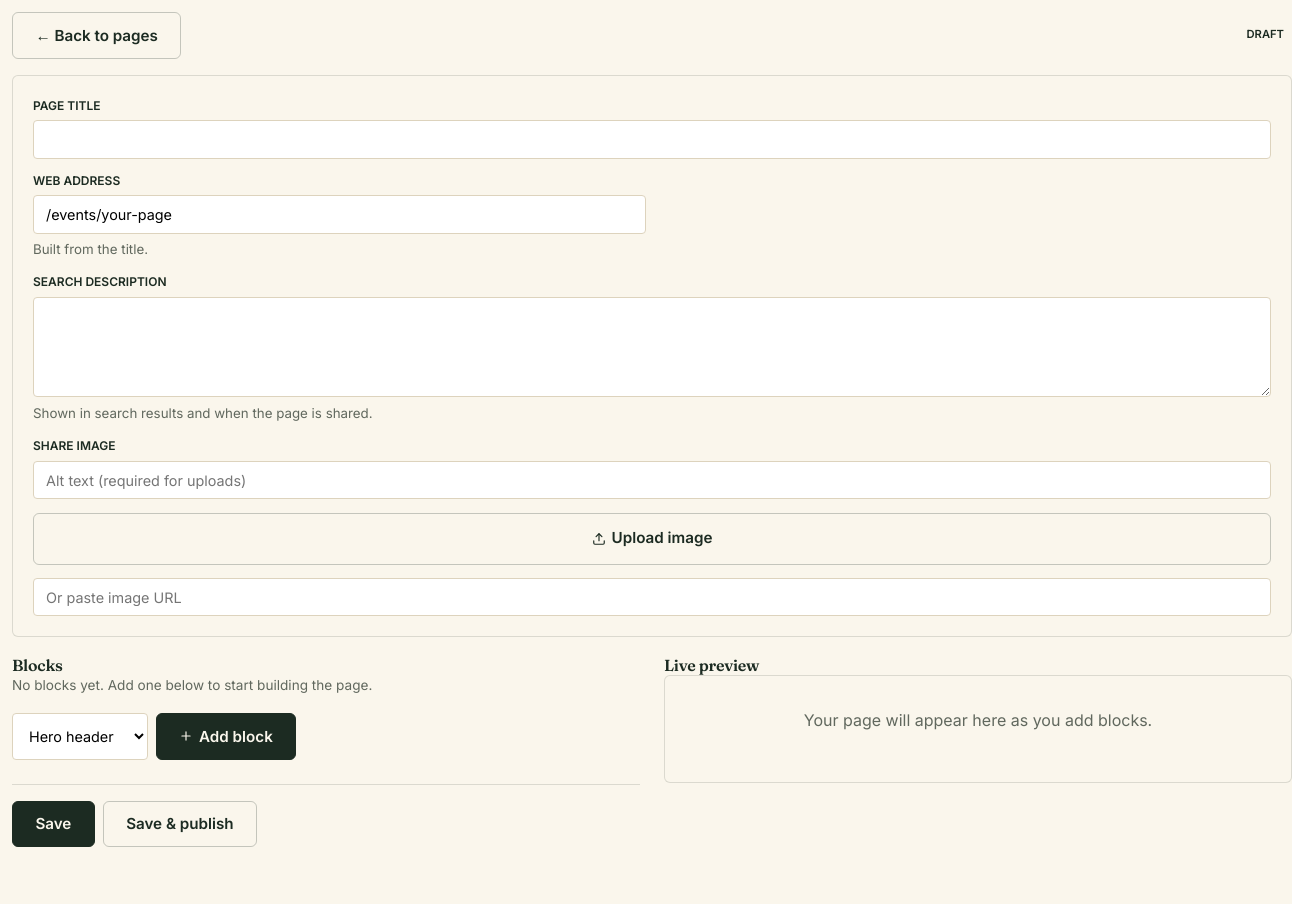
Test: PageBuilder › removes a block after confirming
Select "Pull quote" in the dropdown named "Block type". click: (80, 736)
box: [12,713,148,760]
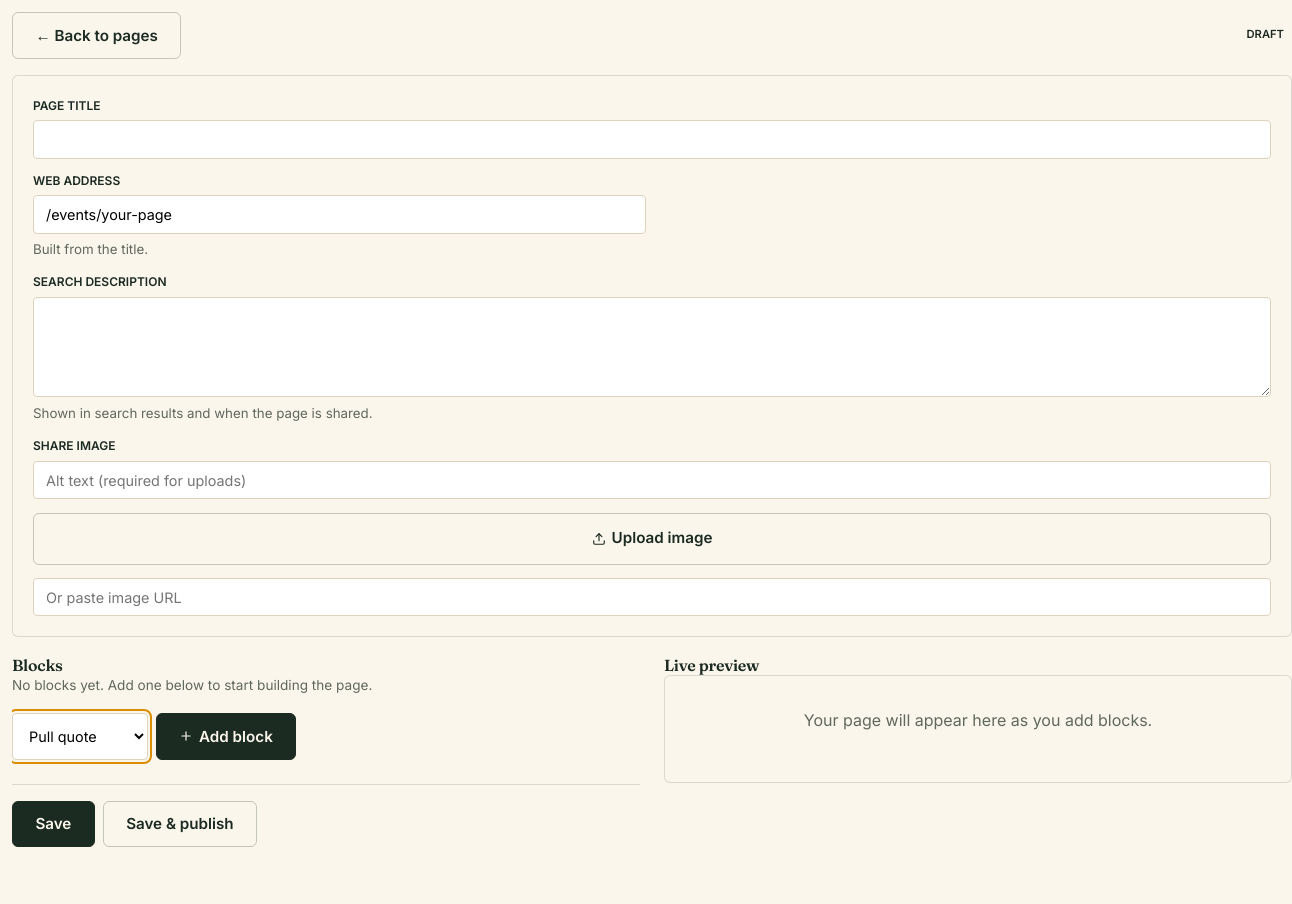
Click the button "Add block". click: (226, 736)
box: [156,713,296,760]
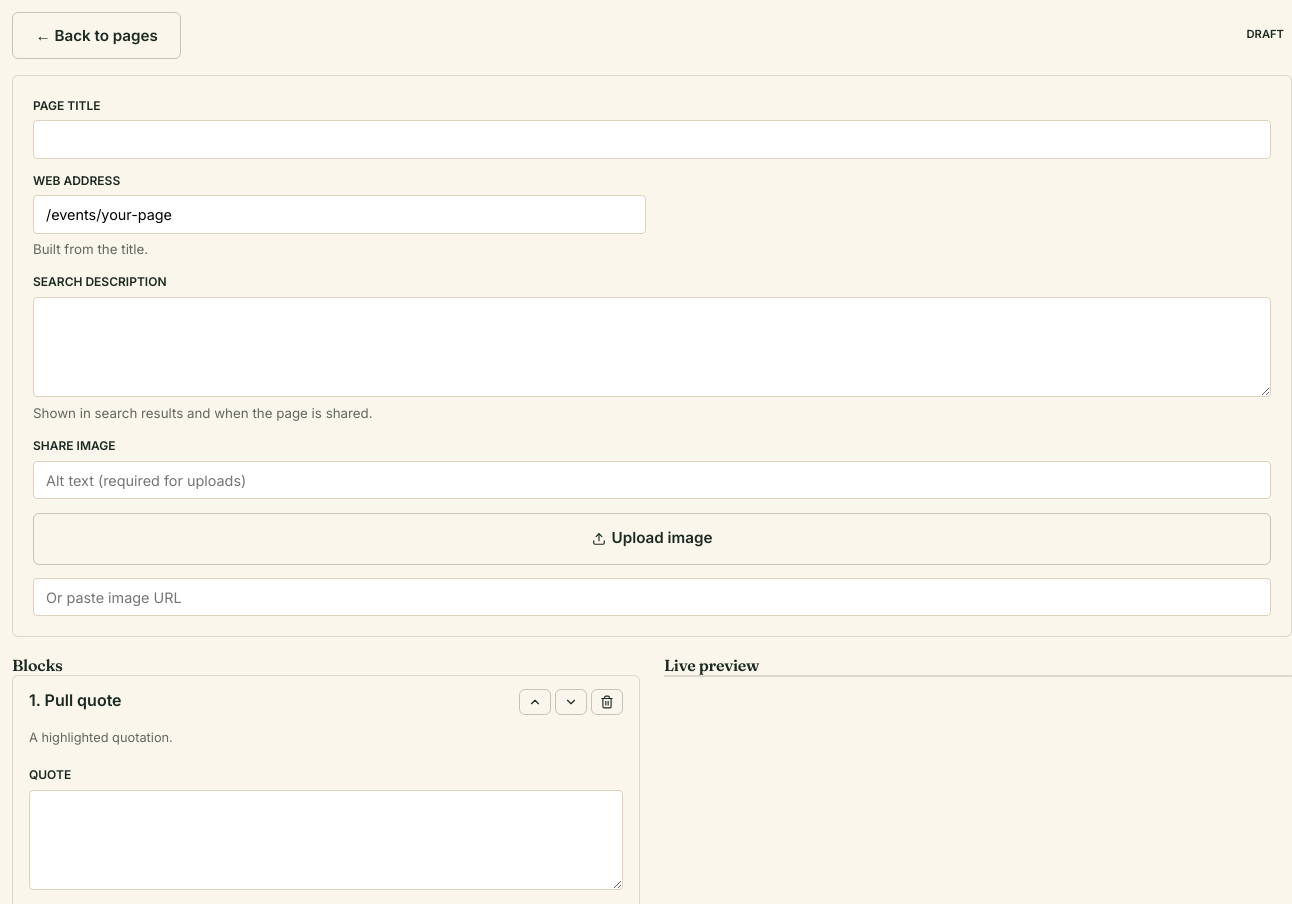
Click the button named "remove pull quote". click: (607, 702)
box: [591,690,623,715]
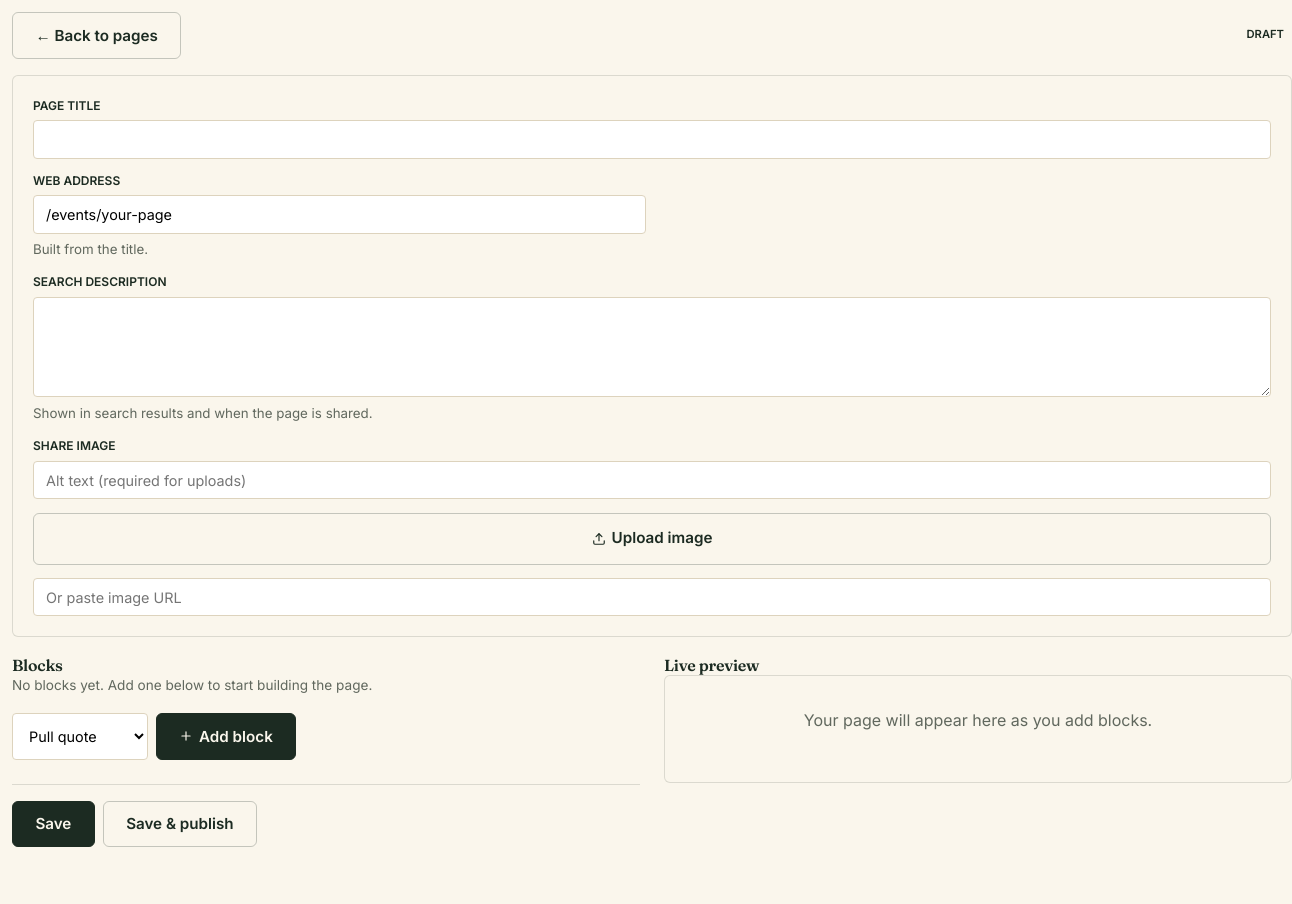
Check: the text "No blocks yet. Add one below to start building the page." is shown, box [12,677,372,693]
